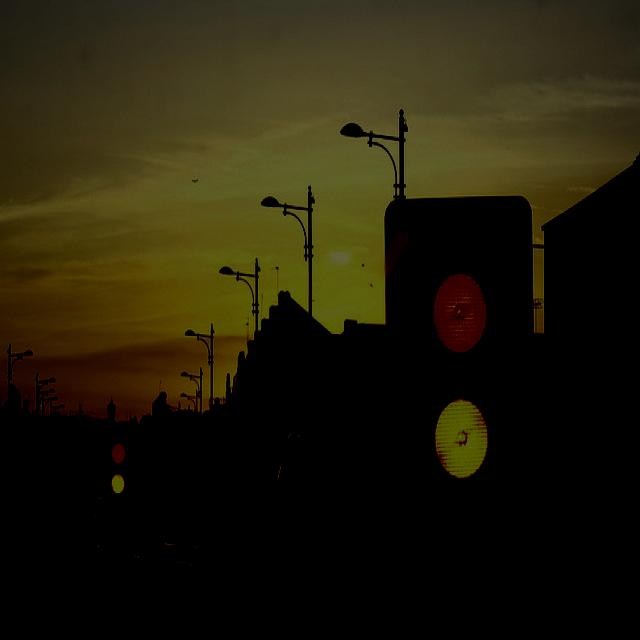Car: (90, 548, 141, 628), (169, 567, 211, 602)
